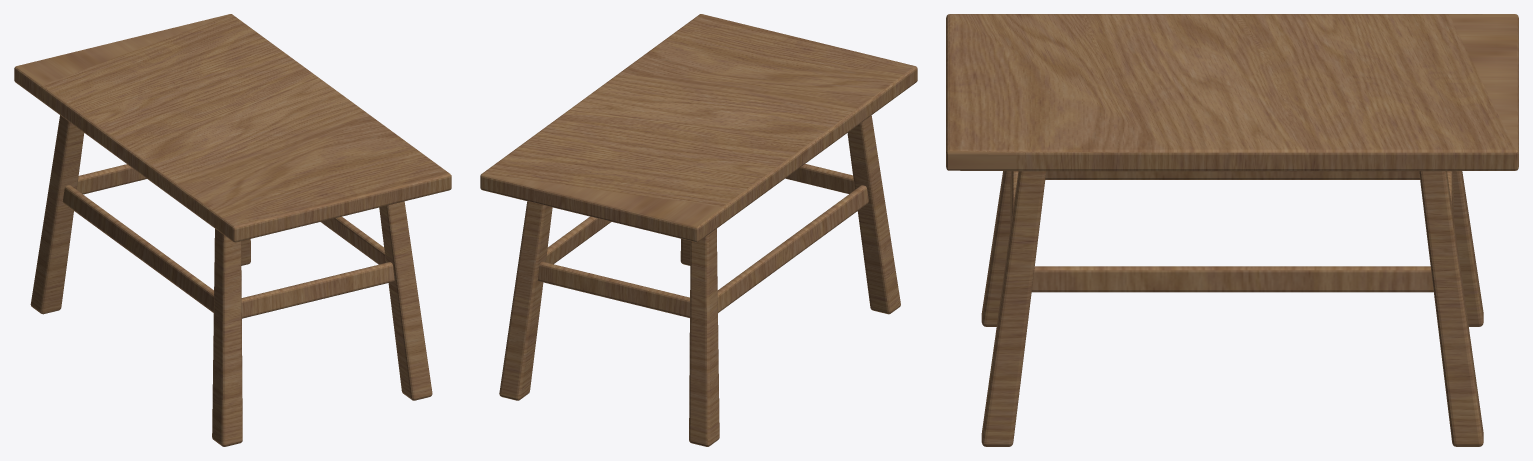
File: Table.fbx
3 views of the same model, side by side, from view 1: azimuth 30°, elevation 25°; view 2: azimuth 150°, elevation 25°; view 3: azimuth 270°, elevation 25° (orthographic). The views are drawn at different scales.
Parts seen in each view (by area): view 1: Table; view 2: Table; view 3: Table.
Part boxes in pixels (x1,y1,x2,y2): Table: (14,14,451,446); Table: (480,14,917,446); Table: (946,14,1518,446).
Bounding box in the file's own units: 1234 × 1250 × 2158.
